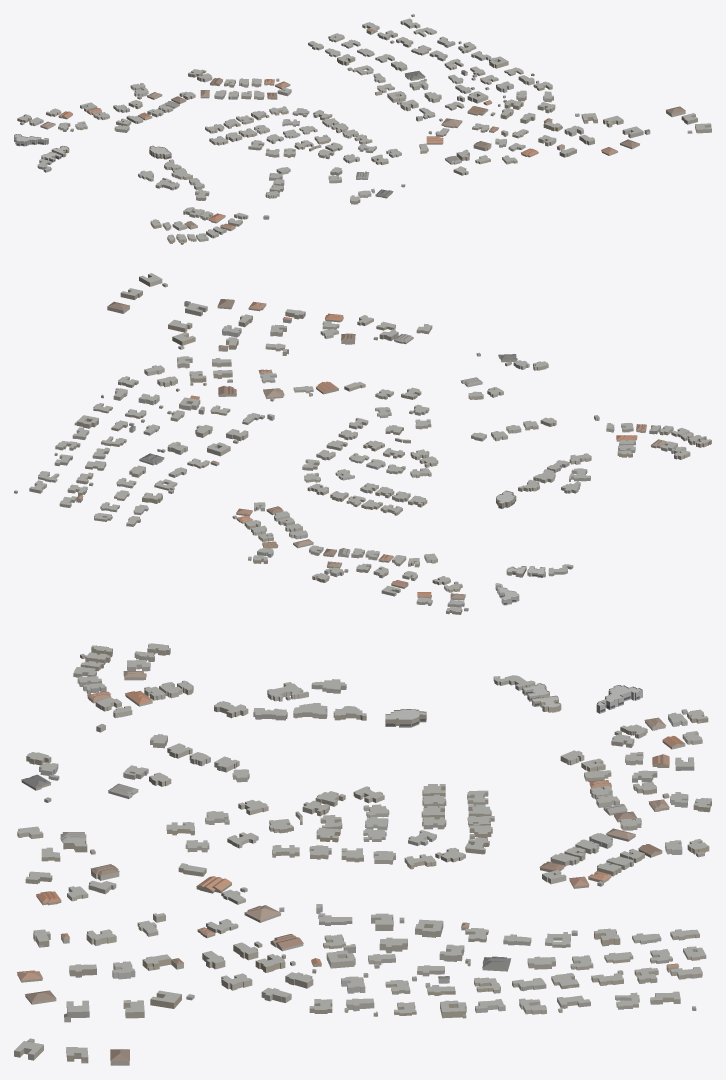
The model's file is buildings_r2_c1.glb.
The picture shows the model from 3 angles, top to bottom: view 1: azimuth 30°, elevation 25°; view 2: azimuth 150°, elevation 25°; view 3: azimuth 270°, elevation 25°; orthographic projection. The views are drawn at different scales.
Visible parts, largest first — view 1: buildings_r2_c1; view 2: buildings_r2_c1; view 3: buildings_r2_c1.
Boxes of the visible parts, left/top/right/bottom form: buildings_r2_c1: left=14, top=14, right=711, bottom=244; buildings_r2_c1: left=14, top=273, right=711, bottom=614; buildings_r2_c1: left=14, top=643, right=711, bottom=1065.
Bounding box in the file's own units: 1146 × 94.87 × 812.
